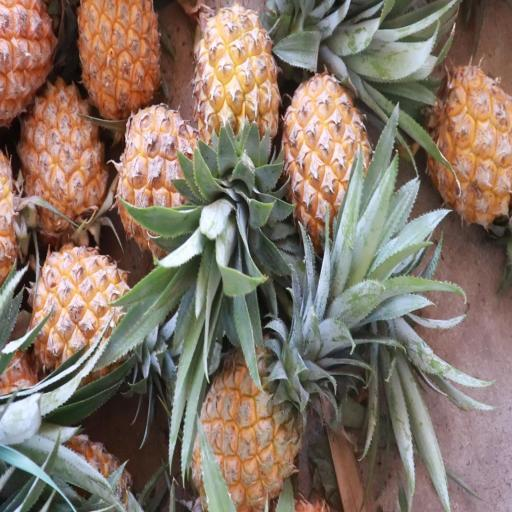Pineapple - v8 v1: (181, 326, 330, 511), (276, 69, 378, 255), (29, 236, 144, 394), (191, 2, 283, 199), (114, 104, 217, 274), (16, 77, 112, 254), (424, 58, 512, 240), (74, 0, 164, 130)
